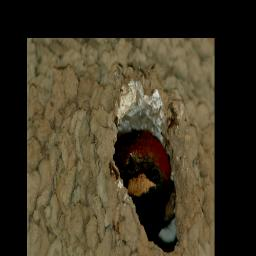Swallow: (113, 129, 172, 239)
